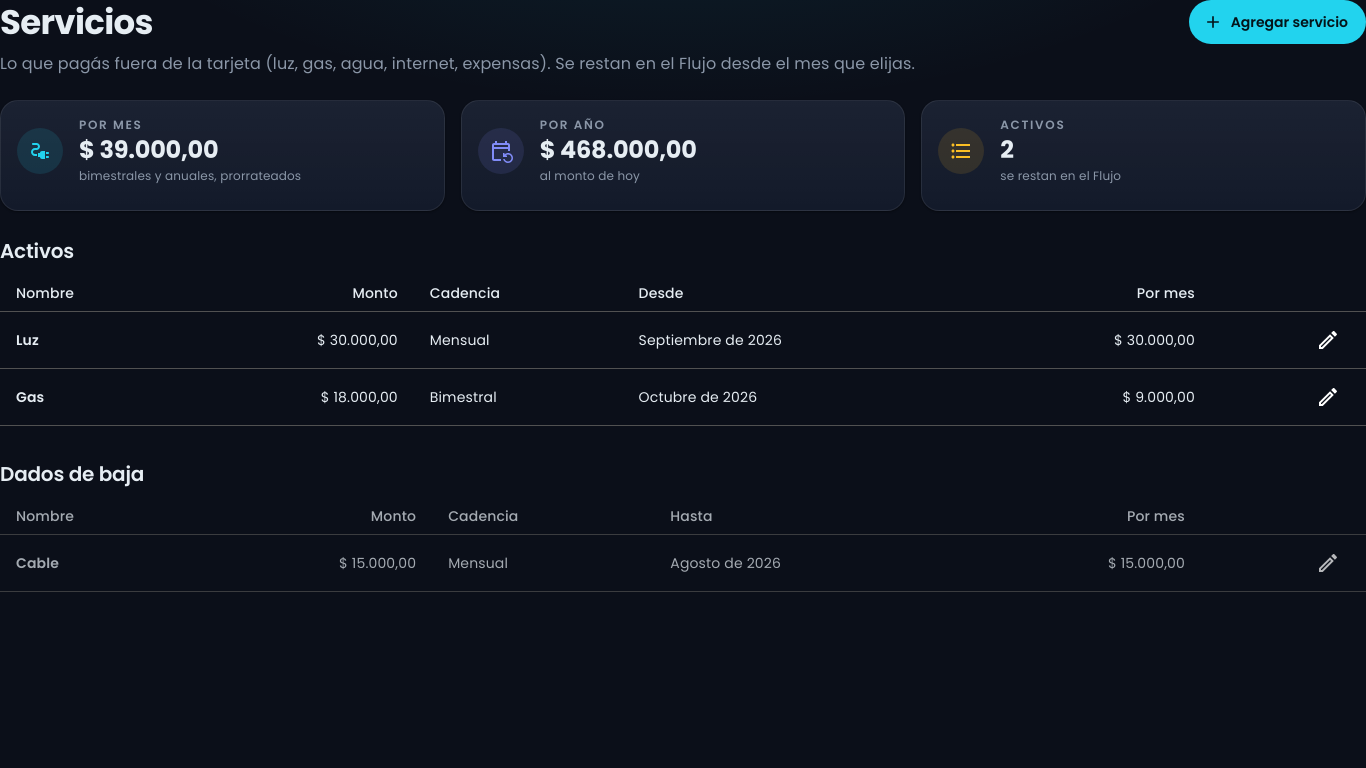
Test: FixedServicesPage › si el server rechaza la edición muestra el error y el editor queda abierto
The width and height of the screenshot is (1366, 768).
Click the button named "editar Luz": (1328, 340) left=1306, top=318, right=1350, bottom=362
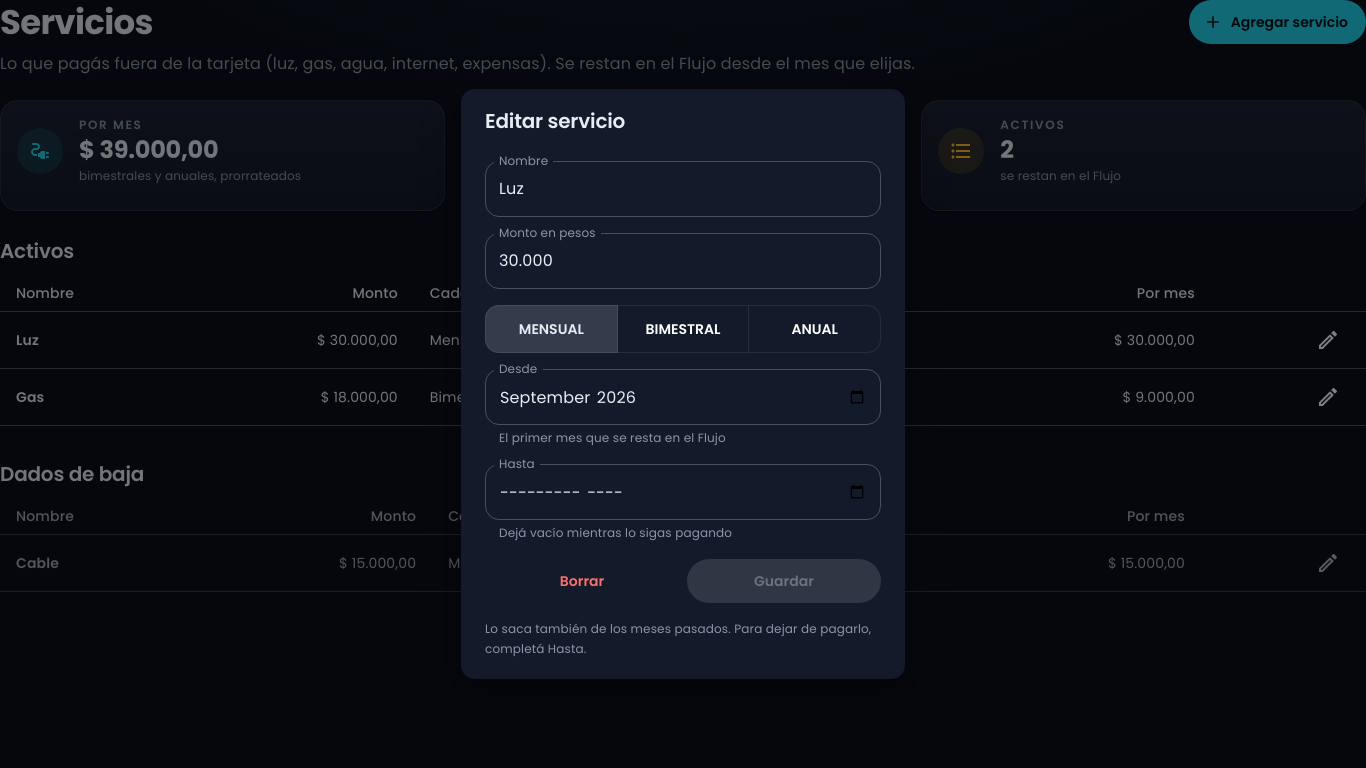
In the field labelled "Hasta": (683, 492) left=485, top=464, right=881, bottom=520, type "2026-10"
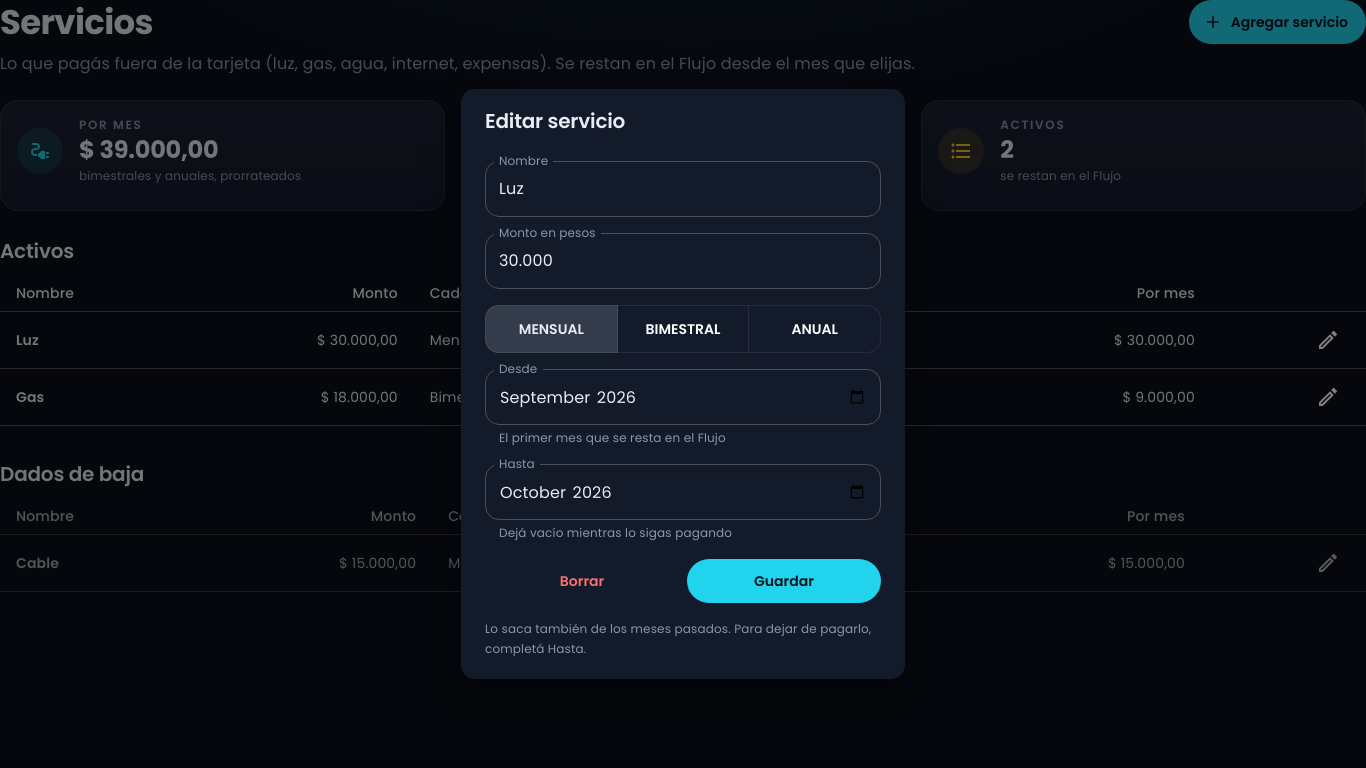
Click the button "Guardar": (784, 581) left=687, top=559, right=881, bottom=603
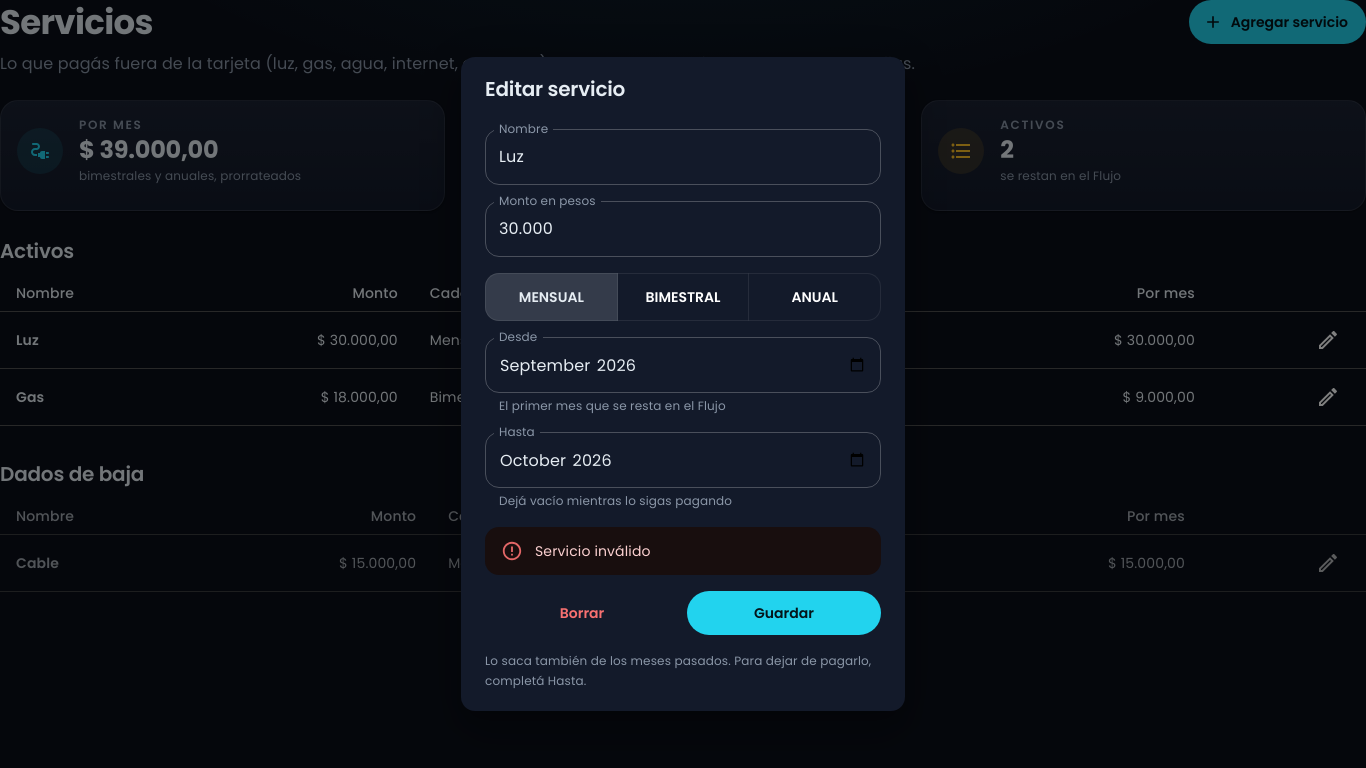
Expected: the dialog "Editar servicio" is shown, left=461, top=57, right=905, bottom=711
Expected: the text "Servicio inválido" is shown, left=535, top=541, right=651, bottom=561
